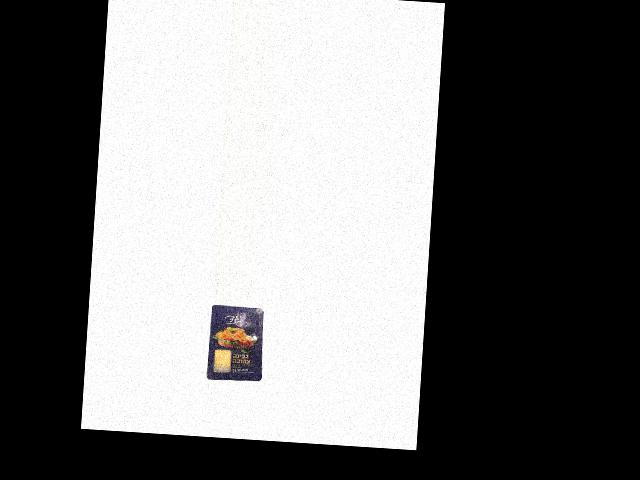cheese: (206, 303, 267, 383)
